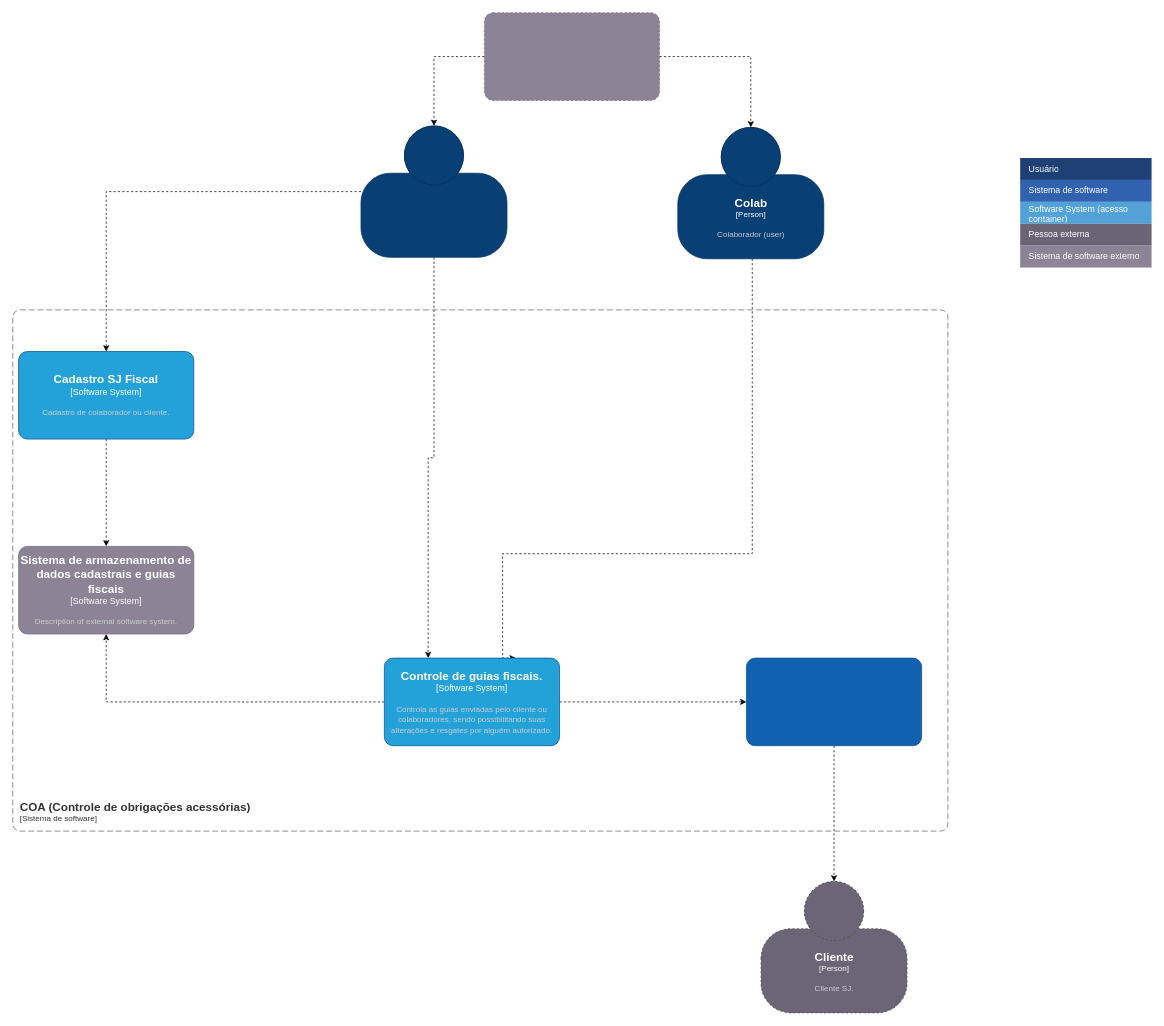
This 1164x1026 diagram has some shape labels left out. Each missing label, with the centre of its shape:
Adm [Person] Colaborador (Admin): (x=433, y=191)
API fiscal [Software System] API que é utilizadA para acessar as guias fiscais.: (x=572, y=56)
Guias regularizadas [Software System] Description of software system.: (x=834, y=701)
